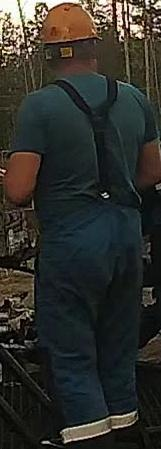helmet: (39, 2, 103, 44)
